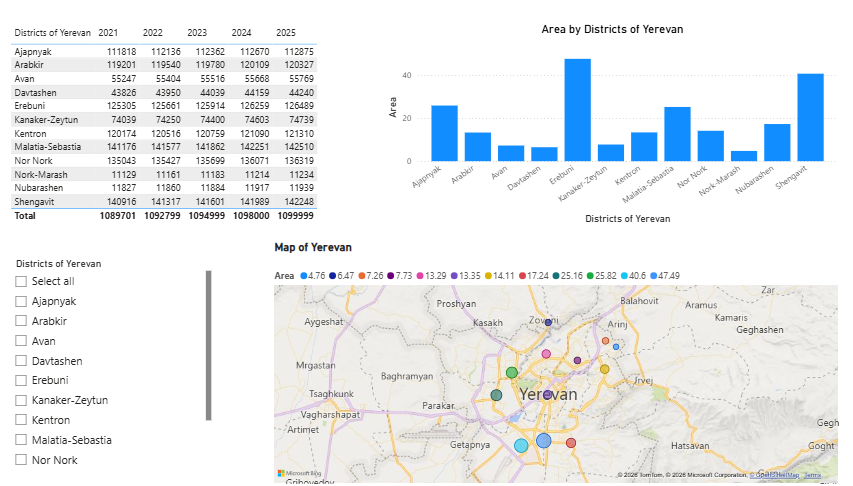

What the dashboard file says about the page in this screenshot:
{"tool":"powerbi","page":{"name":"Yerevan Map","canvas":[1280,720],"ordinal":0},"visuals":[{"type":"slicer","fields":{"Values":["Area.Districts of Yerevan"]},"box":[18.5,381.3,304,315.8],"z":0},{"type":"tableEx","fields":{"Values":["Population.Districts of Yerevan","Sum(Population.2021)","Sum(Population.2022)","Sum(Population.2023)","Sum(Population.2024)","Sum(Population.2025)"]},"box":[18.5,40.3,542.6,300.7],"z":1000},{"type":"columnChart","fields":{"Category":["Area.Districts of Yerevan"],"Y":["Sum(Area.Area)"]},"box":[571.1,40.3,668.6,300.7],"z":2000},{"type":"map","title":"Map of Yerevan ","fields":{"Category":["Area.Districts of Yerevan"],"Y":["Avg(Area.Latitude)"],"X":["Avg(Area.Longitude)"],"Series":["Area.Area"],"Size":["Sum(Area.Area)"]},"box":[404.8,359.5,834.9,361.2],"z":3000}]}

Visuals, with their boxes in screenshot pixels (x1, y1, x2, y2), scaled from the page's 1280x720 canvas onto the 853x486 screenshot:
slicer - Area.Districts of Yerevan: [12, 257, 215, 471]
tableEx - Population.Districts of Yerevan x Sum(Population.2021): [12, 27, 374, 230]
columnChart - Area.Districts of Yerevan x Sum(Area.Area): [381, 27, 826, 230]
"Map of Yerevan " map: [270, 243, 826, 485]
